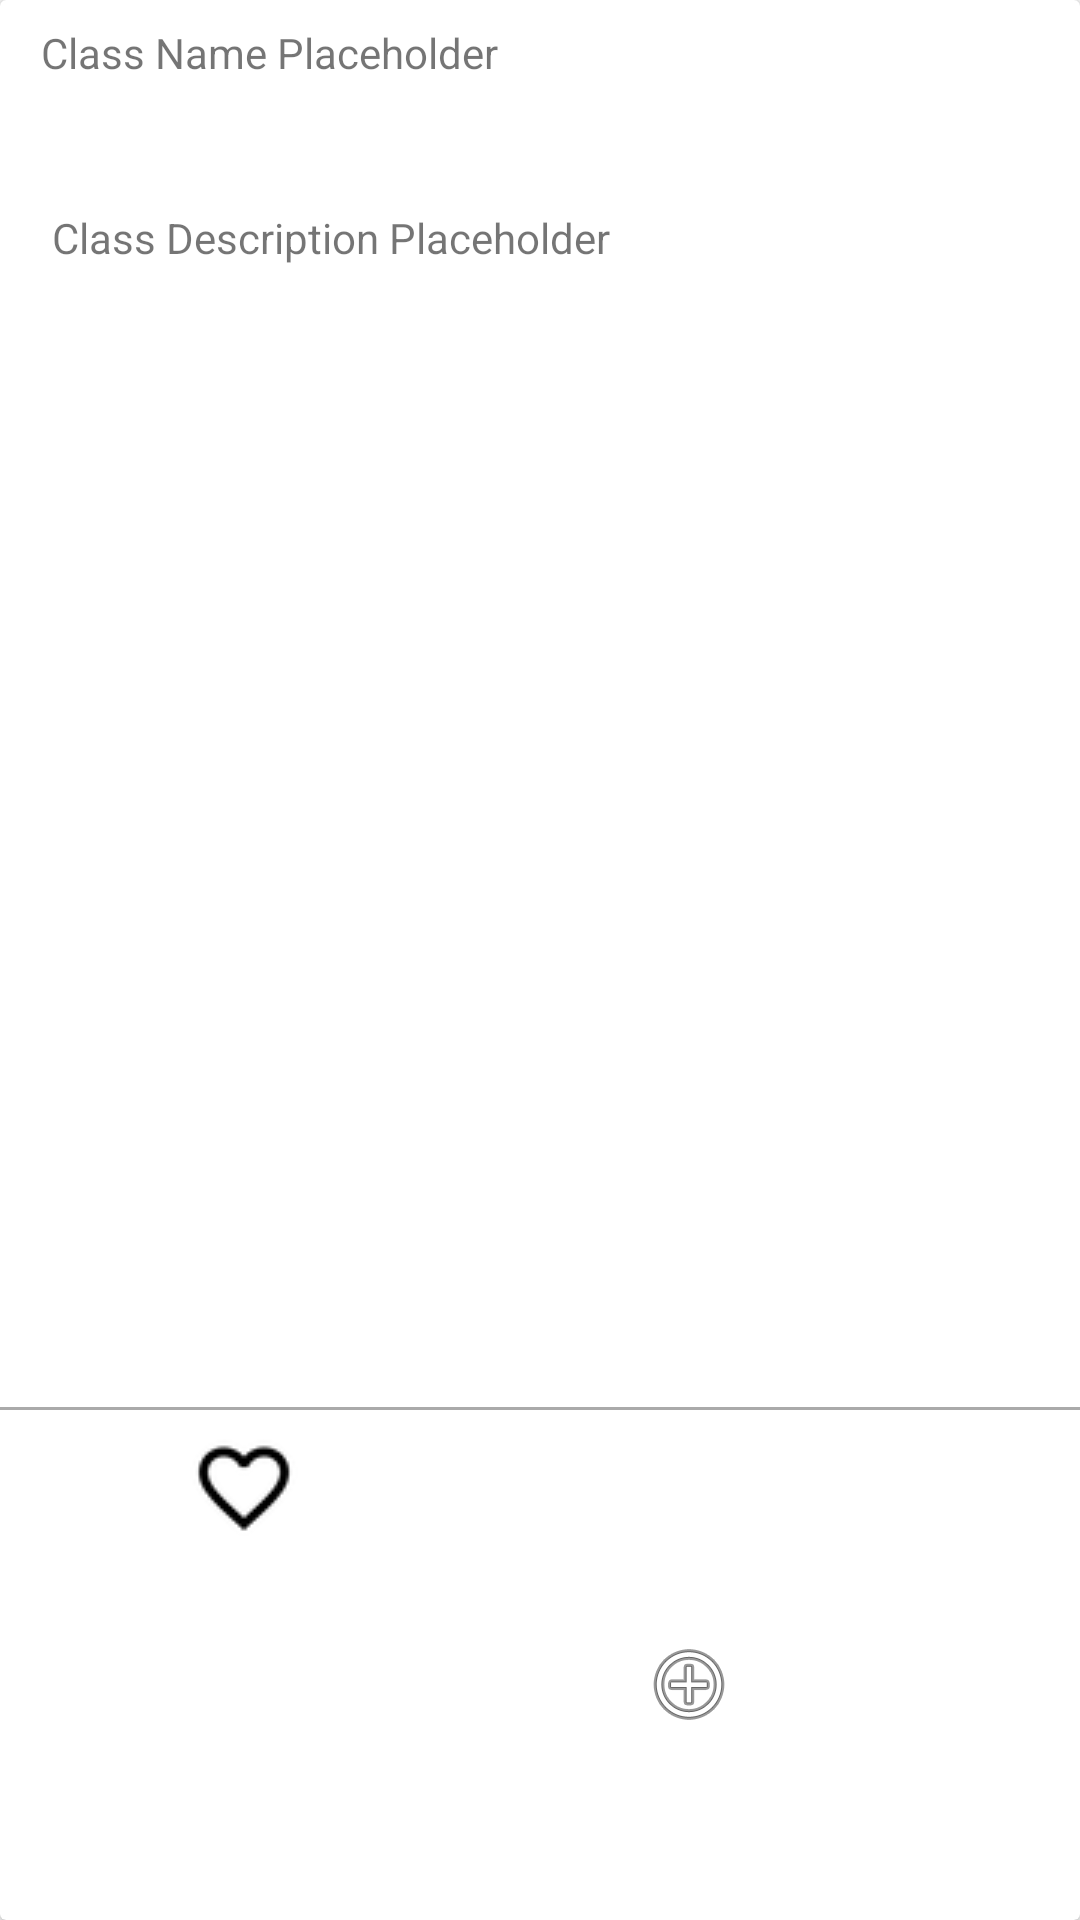

Screen size 1080px×1920px. Icon name, then its center in pixels as (x,y):
add: (689,1684)
fav: (244,1488)
